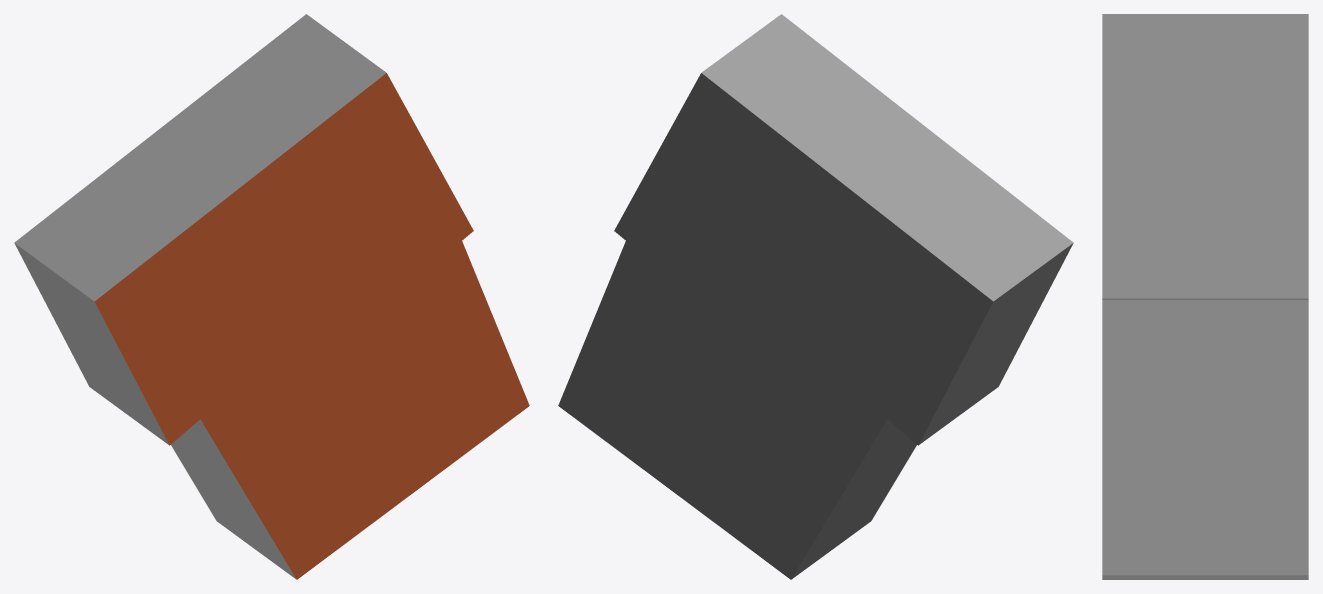
Rendered from construction_5398_assumed_A_Casa_h6m.obj.
3 renders of one model, left to right at view 1: azimuth 30°, elevation 25°; view 2: azimuth 150°, elevation 25°; view 3: azimuth 270°, elevation 25°, orthographic. The views are drawn at different scales.
Parts seen in each view (by area): view 1: construction_5398_assumed_A_Casa; view 2: construction_5398_assumed_A_Casa; view 3: construction_5398_assumed_A_Casa.
Boxes of the visible parts, x1,y1,x2,y2 form: construction_5398_assumed_A_Casa: (14,14,529,579); construction_5398_assumed_A_Casa: (558,14,1073,579); construction_5398_assumed_A_Casa: (1102,14,1308,579).
Bounding box in the file's own units: 18.76 × 19.99 × 6.
